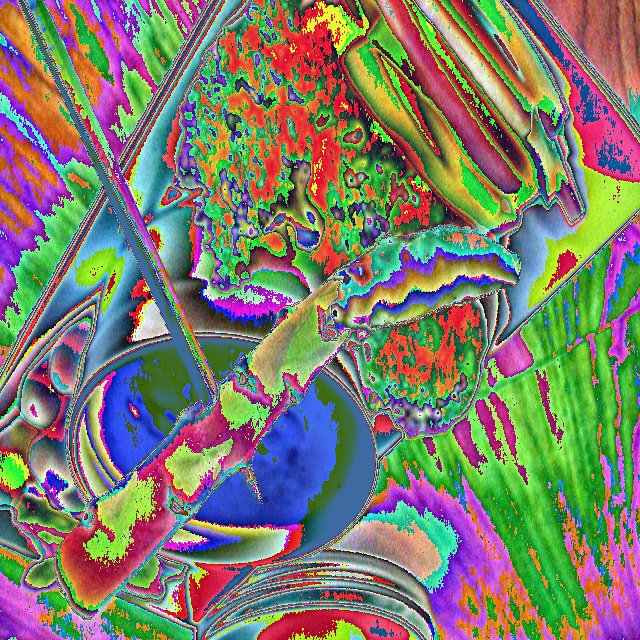background: (0, 0, 584, 621)
